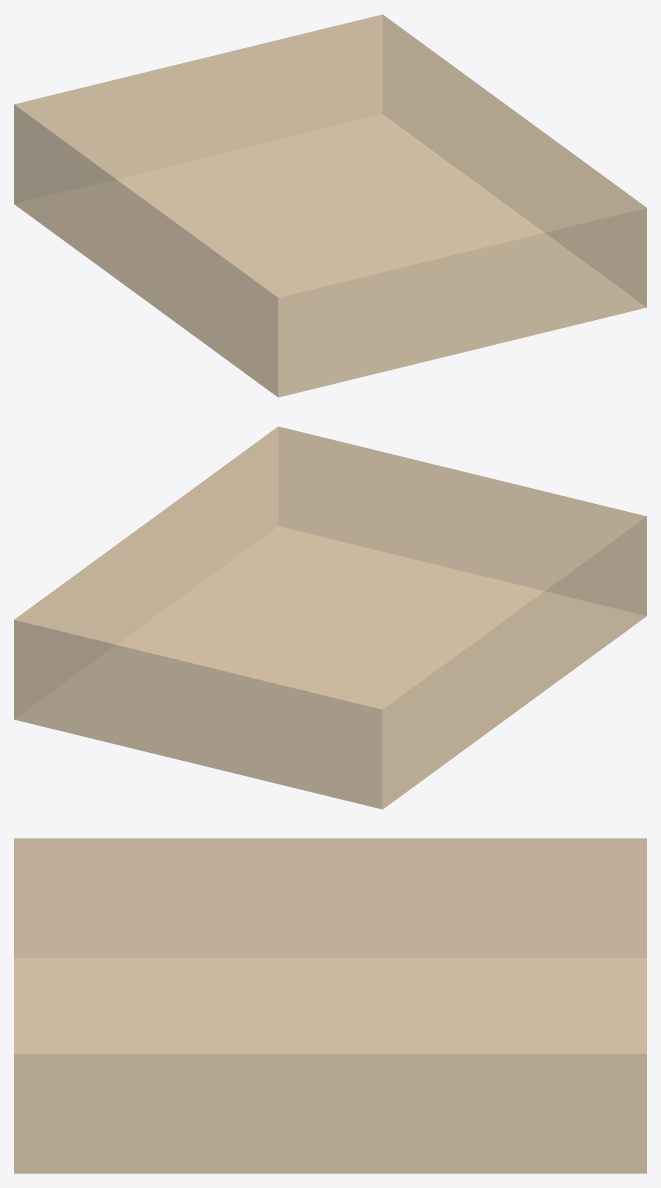
The model's file is blockout.glb.
The picture shows the model from 3 angles, top to bottom: view 1: azimuth 30°, elevation 25°; view 2: azimuth 150°, elevation 25°; view 3: azimuth 270°, elevation 25°; orthographic projection. The views are drawn at different scales.
Visible parts, largest first — view 1: C09_ENVELOPE_NOT_FINAL_MESH; view 2: C09_ENVELOPE_NOT_FINAL_MESH; view 3: C09_ENVELOPE_NOT_FINAL_MESH.
Part boxes in pixels (x1,y1,x2,y2): C09_ENVELOPE_NOT_FINAL_MESH: (14,14,646,397); C09_ENVELOPE_NOT_FINAL_MESH: (14,426,646,809); C09_ENVELOPE_NOT_FINAL_MESH: (14,838,646,1173).
Size of the model in its own units: 5.8 by 1.5 by 7.2.
